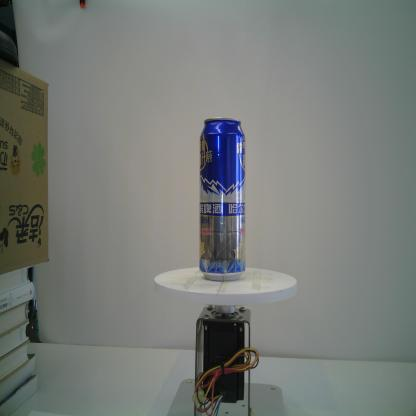Alcohol: (199, 117, 246, 283)
